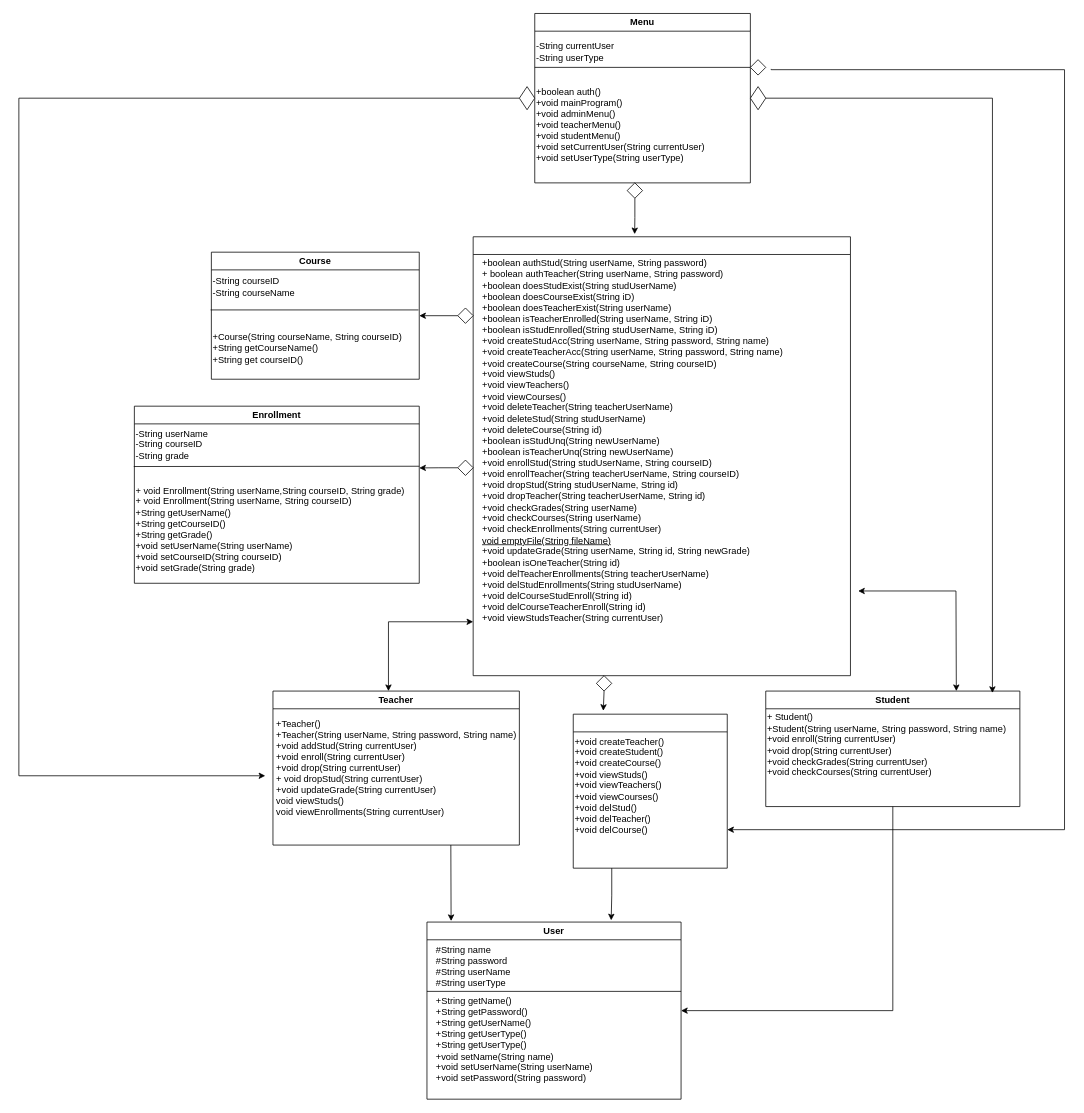
This 1084x1113 diagram has some shape labels left out. The box of each missing label's shape, as (x1, y1, x2, y2) in pixels:
Admin: (572, 713, 727, 868)
FileHandler: (472, 236, 850, 676)
